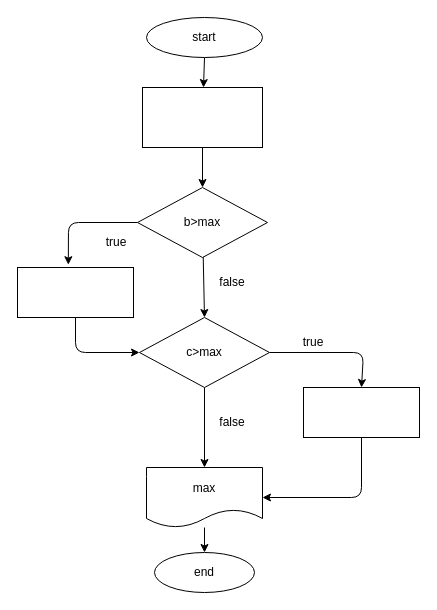
Some shapes in this 437 by 610 pixel diagram are drawn without their labels. Here are the shapes that lost their labels. From the top down, the box of each, then its label:
(142, 86, 262, 148): number 1=a number 2=b number 3=c max=a
(16, 266, 134, 318): max=b
(302, 386, 420, 438): max=c
